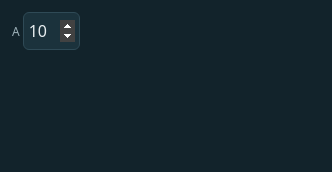
Test case: NumberField › restores the value for empty or non-numeric text
The width and height of the screenshot is (332, 172).
Clear the number field named "Amount" at (52, 31), box [23,12,80,50]
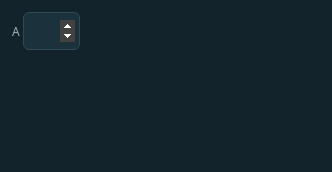
Leave the number field named "Amount", box [23,12,80,50]
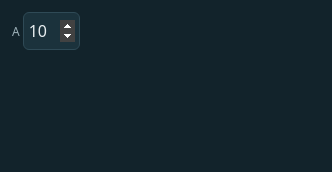
Check: the number field named "Amount" holds "10", box [23,12,80,50]
